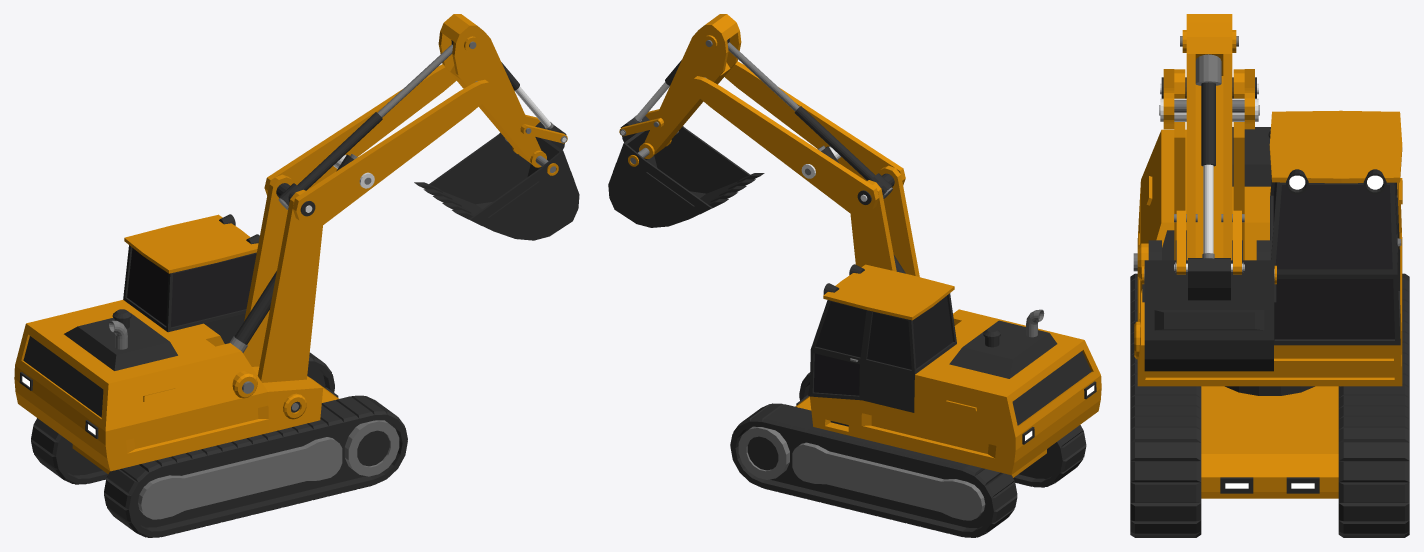
The model's file is Excavator.glb.
3 views of the same model, side by side, from view 1: azimuth 30°, elevation 25°; view 2: azimuth 150°, elevation 25°; view 3: azimuth 270°, elevation 25° (orthographic). The views are drawn at different scales.
Parts seen in each view (by area): view 1: Excavator_Body, Excavator_Tracs, Excavator_Arm_Long_02, Excavator_Bucket, Excavator_Arm_Long_01, Excavator_Arm_Short, Excavator_Idlers, Excavator_Cylinder_02, Excavator_Cylinder_01; view 2: Excavator_Body, Excavator_Tracs, Excavator_Arm_Long_02, Excavator_Bucket, Excavator_Arm_Short, Excavator_Arm_Long_01, Excavator_Idlers, Excavator_Cylinder_02; view 3: Excavator_Body, Excavator_Tracs, Excavator_Bucket, Excavator_Base, Excavator_Arm_Short, Excavator_Arm_Long_01, Excavator_Cylinder_03, Excavator_Arm_Long_02, Excavator_Arm_Bucket, Excavator_Lights, Excavator_Turn_Base, Excavator_Axle_04 (+1 smaller).
Boxes of the visible parts, left/top/right/bottom form: Excavator_Body: left=14, top=214, right=323, bottom=471; Excavator_Tracs: left=31, top=352, right=407, bottom=537; Excavator_Arm_Long_02: left=264, top=64, right=493, bottom=225; Excavator_Bucket: left=414, top=122, right=579, bottom=240; Excavator_Arm_Long_01: left=243, top=174, right=322, bottom=382; Excavator_Arm_Short: left=438, top=14, right=541, bottom=163; Excavator_Idlers: left=344, top=420, right=399, bottom=476; Excavator_Cylinder_02: left=278, top=40, right=453, bottom=209; Excavator_Cylinder_01: left=229, top=154, right=357, bottom=352; Excavator_Body: left=810, top=264, right=1101, bottom=474; Excavator_Tracs: left=730, top=372, right=1086, bottom=537; Excavator_Arm_Long_02: left=689, top=61, right=905, bottom=213; Excavator_Bucket: left=608, top=116, right=764, bottom=227; Excavator_Arm_Short: left=644, top=14, right=741, bottom=154; Excavator_Arm_Long_01: left=850, top=165, right=919, bottom=276; Excavator_Idlers: left=738, top=426, right=789, bottom=479; Excavator_Cylinder_02: left=727, top=38, right=892, bottom=198; Excavator_Body: left=1137, top=110, right=1402, bottom=386; Excavator_Tracs: left=1130, top=273, right=1409, bottom=537; Excavator_Bucket: left=1142, top=240, right=1276, bottom=371; Excavator_Base: left=1201, top=386, right=1338, bottom=498; Excavator_Arm_Short: left=1186, top=14, right=1232, bottom=260; Excavator_Arm_Long_01: left=1174, top=69, right=1244, bottom=260; Excavator_Cylinder_03: left=1195, top=54, right=1221, bottom=258; Excavator_Arm_Long_02: left=1163, top=69, right=1254, bottom=129; Excavator_Arm_Bucket: left=1176, top=210, right=1241, bottom=274; Excavator_Lights: left=1286, top=169, right=1386, bottom=194; Excavator_Turn_Base: left=1225, top=386, right=1314, bottom=395; Excavator_Axle_04: left=1159, top=98, right=1259, bottom=121.
Size of the model in its own units: 4.34 by 3.63 by 1.53.
